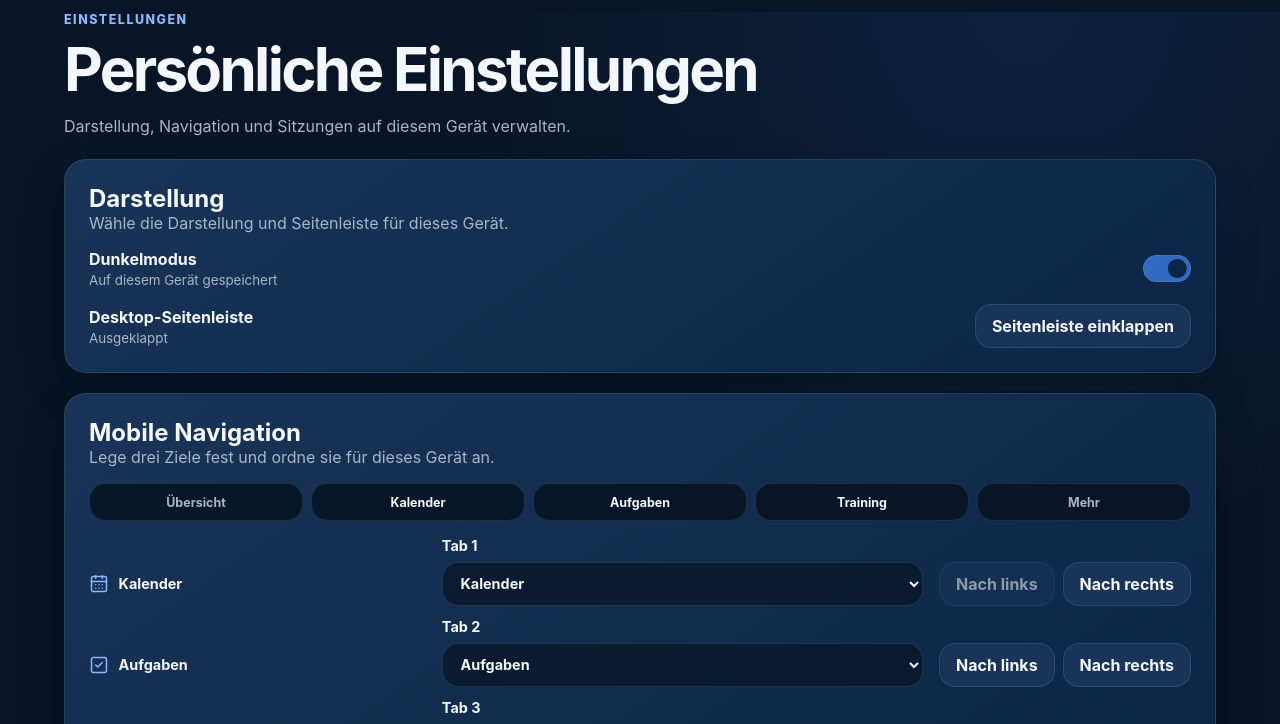
Test: SettingsPage › saves the desktop sidebar preference on this device
Click the button "Seitenleiste einklappen". click: [1083, 326]
box: [975,304,1191,348]
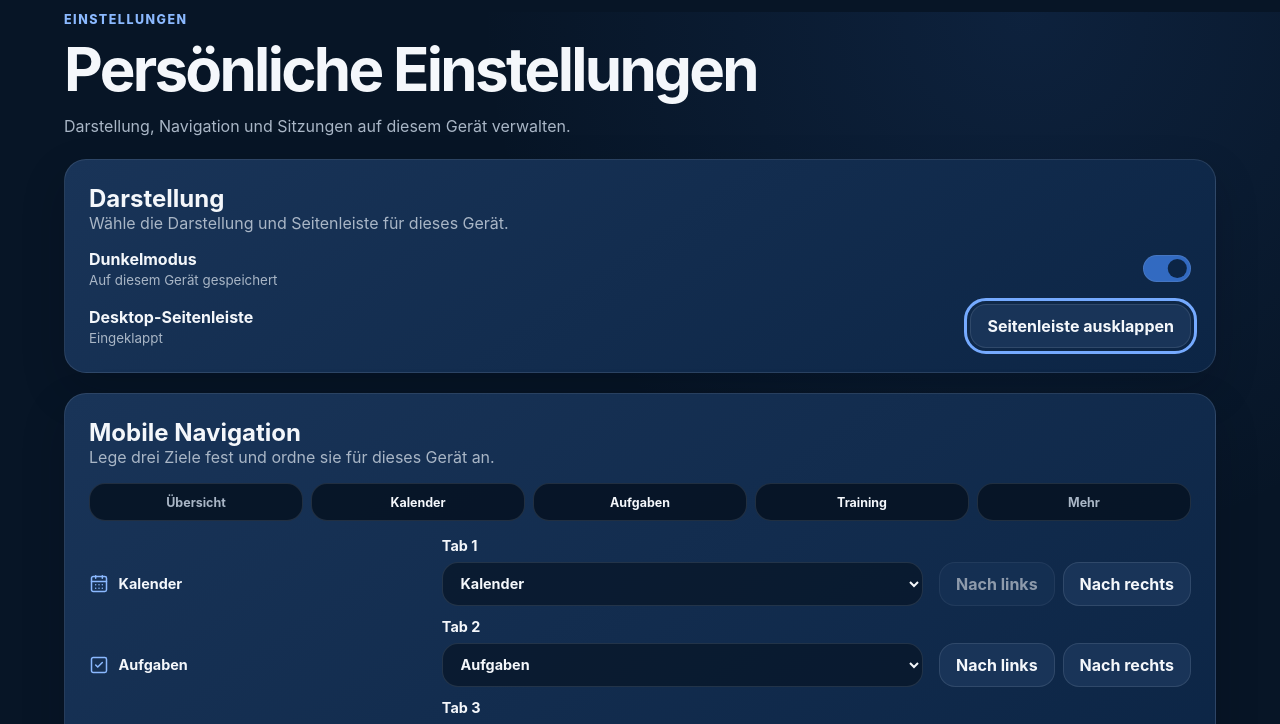
Now the button "Seitenleiste ausklappen" is shown, box [970,304,1191,348]
